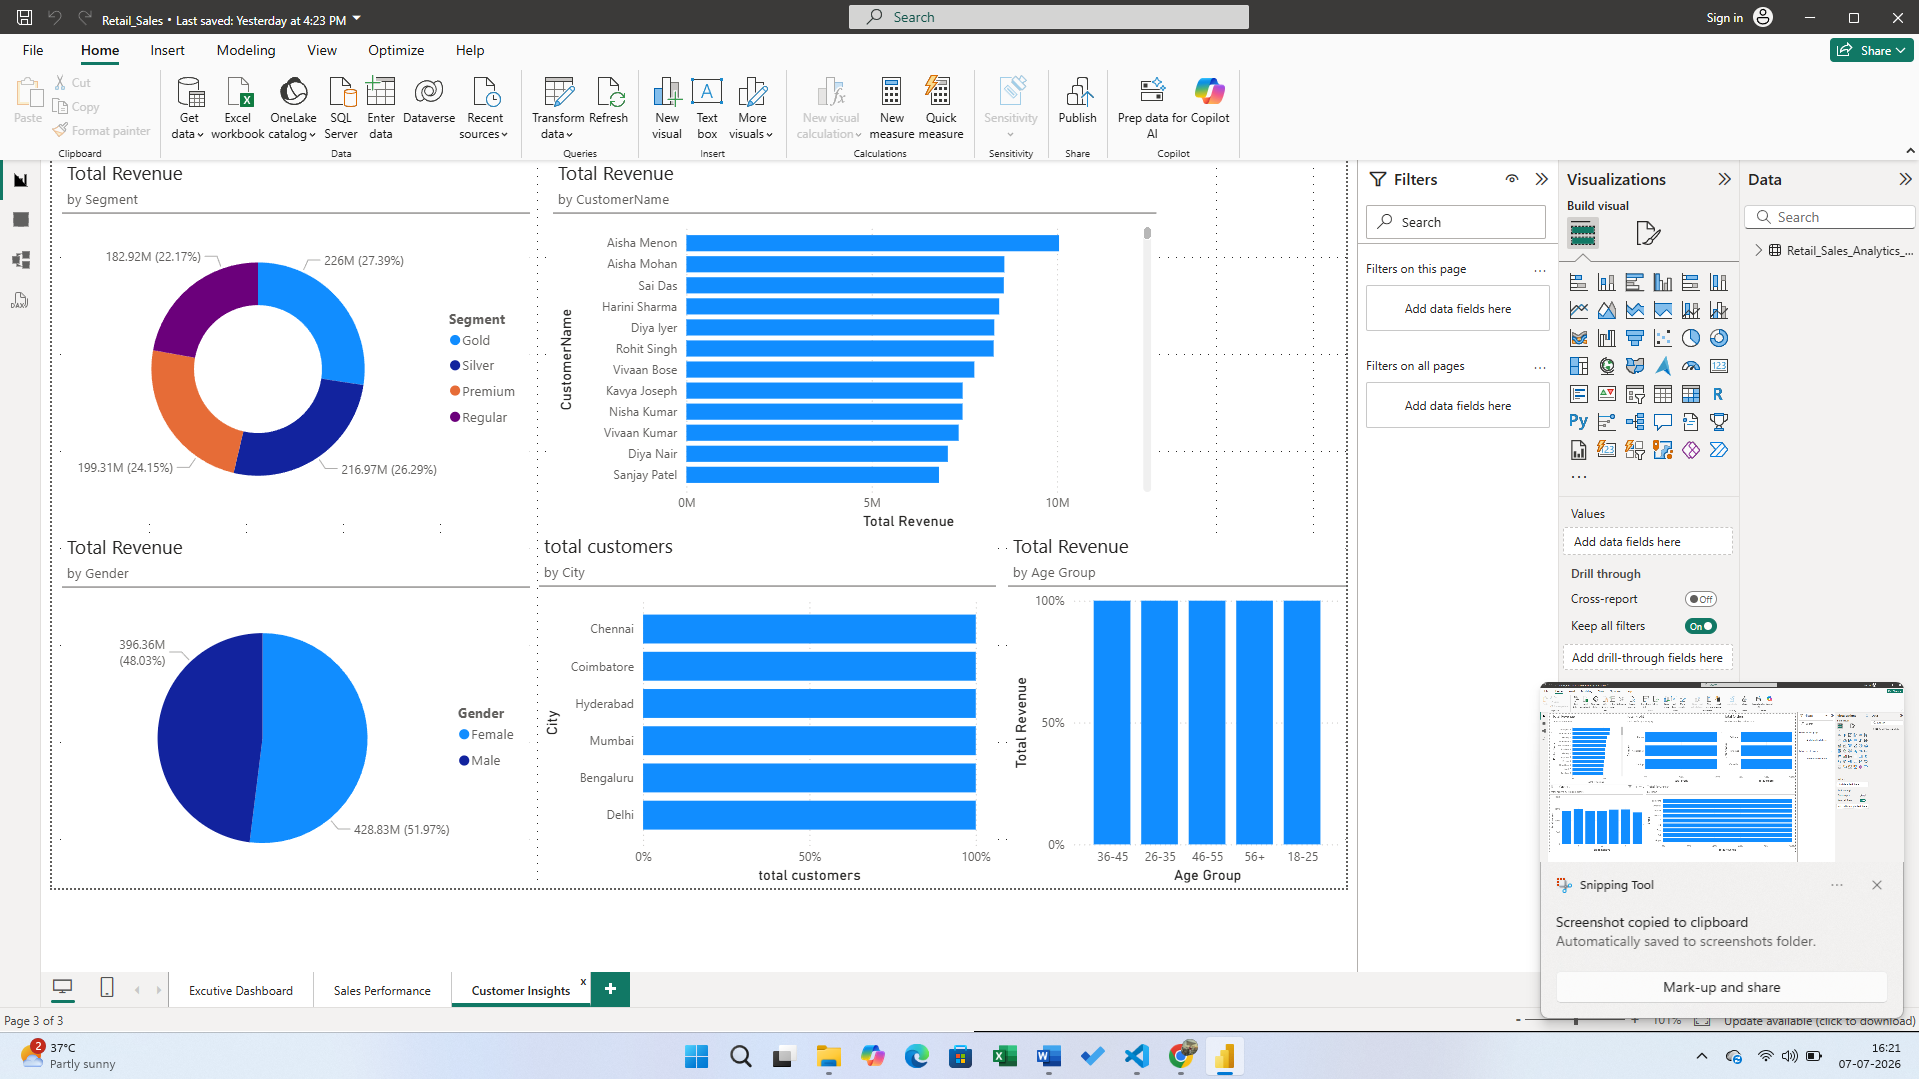

The dashboard page shown, as its layout file describes it:
{"tool":"powerbi","page":{"name":"Customer Insights","canvas":[1280,720],"ordinal":2},"visuals":[{"type":"donutChart","fields":{"Category":["Retail_Sales_Analytics_Enterprise_Dataset.Segment"],"Y":["Retail_Sales_Analytics_Enterprise_Dataset.Total Revenue"]},"box":[9.7,0,463,359.9],"z":0},{"type":"pieChart","fields":{"Category":["Retail_Sales_Analytics_Enterprise_Dataset.Gender"],"Y":["Retail_Sales_Analytics_Enterprise_Dataset.Total Revenue"]},"box":[10,370,463,350],"z":1000},{"type":"hundredPercentStackedBarChart","fields":{"Category":["Retail_Sales_Analytics_Enterprise_Dataset.City"],"Y":["Retail_Sales_Analytics_Enterprise_Dataset.total customers"]},"box":[482.4,369.6,452.3,350.2],"z":2000},{"type":"clusteredBarChart","fields":{"Category":["Retail_Sales_Analytics_Enterprise_Dataset.CustomerName"],"Y":["Retail_Sales_Analytics_Enterprise_Dataset.Total Revenue"]},"box":[496,0,597.2,369.6],"z":3000},{"type":"hundredPercentStackedColumnChart","fields":{"Category":["Retail_Sales_Analytics_Enterprise_Dataset.Age Group"],"Y":["Retail_Sales_Analytics_Enterprise_Dataset.Total Revenue"]},"box":[945.7,369.6,334.3,350.2],"z":4000}]}

Visuals, with their boxes on the page's 1280x720 design canvas (x1, y1, x2, y2). These are canvas units, not pixel positions in the 1919x1079 screenshot, which may show the page scaled, cropped or inside an application window:
donutChart - Retail_Sales_Analytics_Enterprise_Dataset.Segment x Retail_Sales_Analytics_Enterprise_Dataset.Total Revenue: (10,0,473,360)
pieChart - Retail_Sales_Analytics_Enterprise_Dataset.Gender x Retail_Sales_Analytics_Enterprise_Dataset.Total Revenue: (10,370,473,720)
hundredPercentStackedBarChart - Retail_Sales_Analytics_Enterprise_Dataset.City x Retail_Sales_Analytics_Enterprise_Dataset.total customers: (482,370,935,720)
clusteredBarChart - Retail_Sales_Analytics_Enterprise_Dataset.CustomerName x Retail_Sales_Analytics_Enterprise_Dataset.Total Revenue: (496,0,1093,370)
hundredPercentStackedColumnChart - Retail_Sales_Analytics_Enterprise_Dataset.Age Group x Retail_Sales_Analytics_Enterprise_Dataset.Total Revenue: (946,370,1280,720)
